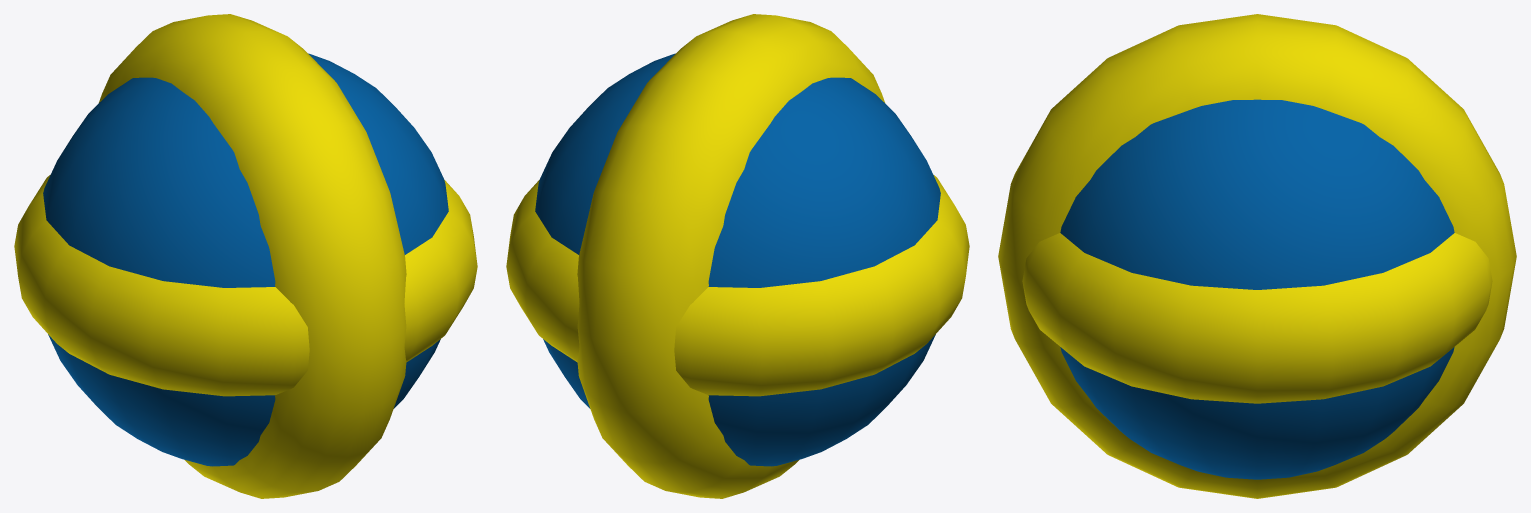
File: asset_projectile.fbx
3 renders of one model, left to right at view 1: azimuth 30°, elevation 25°; view 2: azimuth 150°, elevation 25°; view 3: azimuth 270°, elevation 25°, orthographic. The views are drawn at different scales.
Visible parts, largest first — view 1: pTorus2, pSphere1, pTorus1; view 2: pTorus2, pSphere1, pTorus1; view 3: pSphere1, pTorus2, pTorus1.
Boxes of the visible parts, x1,y1,x2,y2 form: pTorus2: (99, 14, 406, 498); pSphere1: (43, 53, 448, 466); pTorus1: (14, 175, 477, 396); pTorus2: (577, 14, 884, 498); pSphere1: (535, 53, 940, 466); pTorus1: (506, 175, 969, 396); pSphere1: (1060, 99, 1454, 479); pTorus2: (998, 14, 1516, 498); pTorus1: (1022, 233, 1492, 403).
Bounding box in the file's own units: 14.75 × 15.66 × 15.66.
